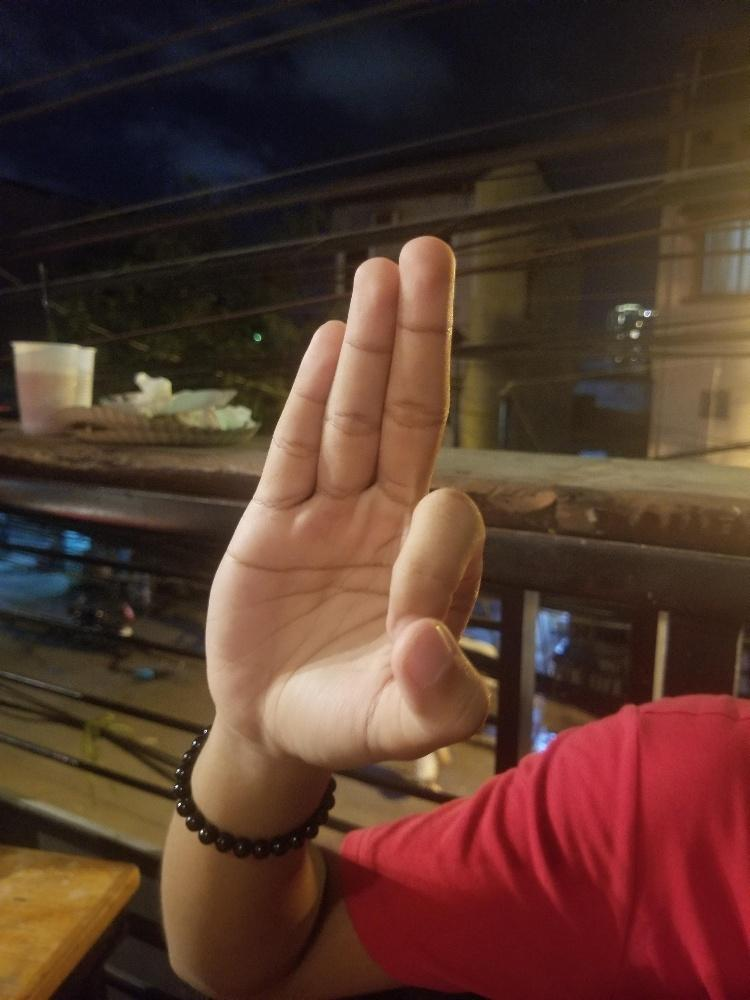f: (205, 234, 496, 766)
